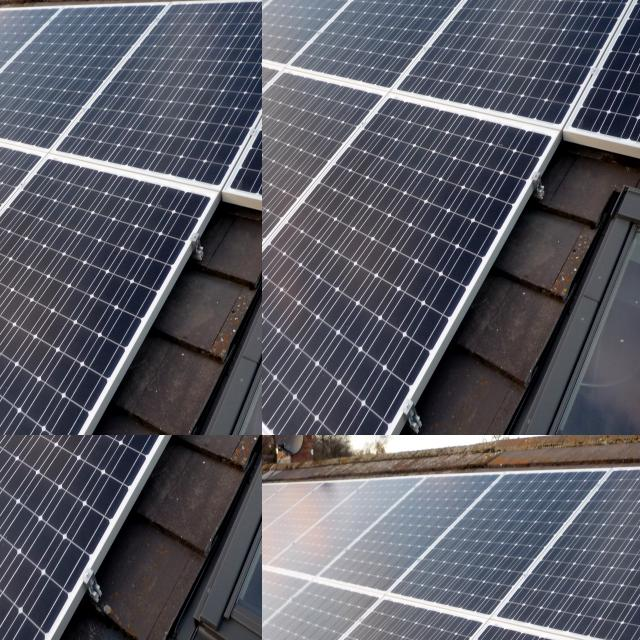crack: (479, 465, 640, 640)
panel: (0, 0, 13, 12), (0, 0, 5, 10), (0, 435, 12, 439), (0, 435, 11, 439), (0, 0, 7, 6), (0, 0, 6, 6), (0, 435, 9, 439), (0, 435, 8, 439), (0, 435, 10, 438), (0, 435, 5, 438)
shadow: (262, 0, 441, 412), (499, 102, 640, 435)
